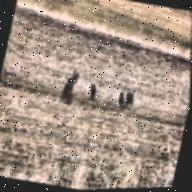boar: (57, 78, 77, 108), (84, 81, 103, 102), (122, 89, 136, 115), (114, 90, 127, 111)
